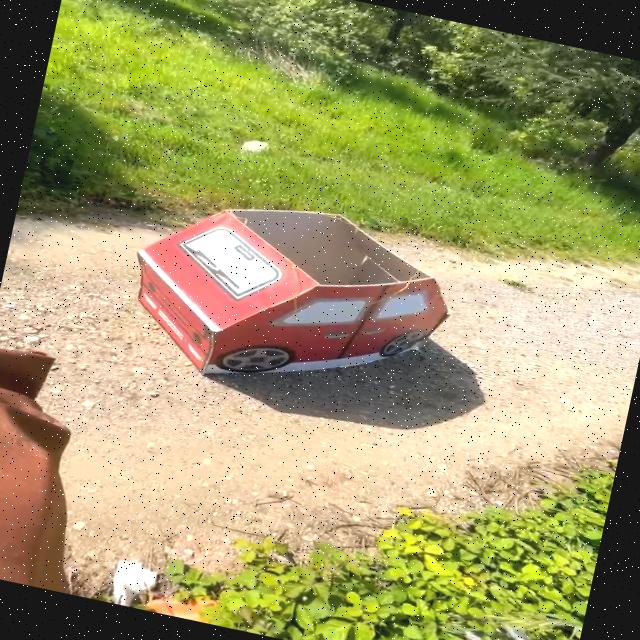red_car: (80, 155, 498, 437)
